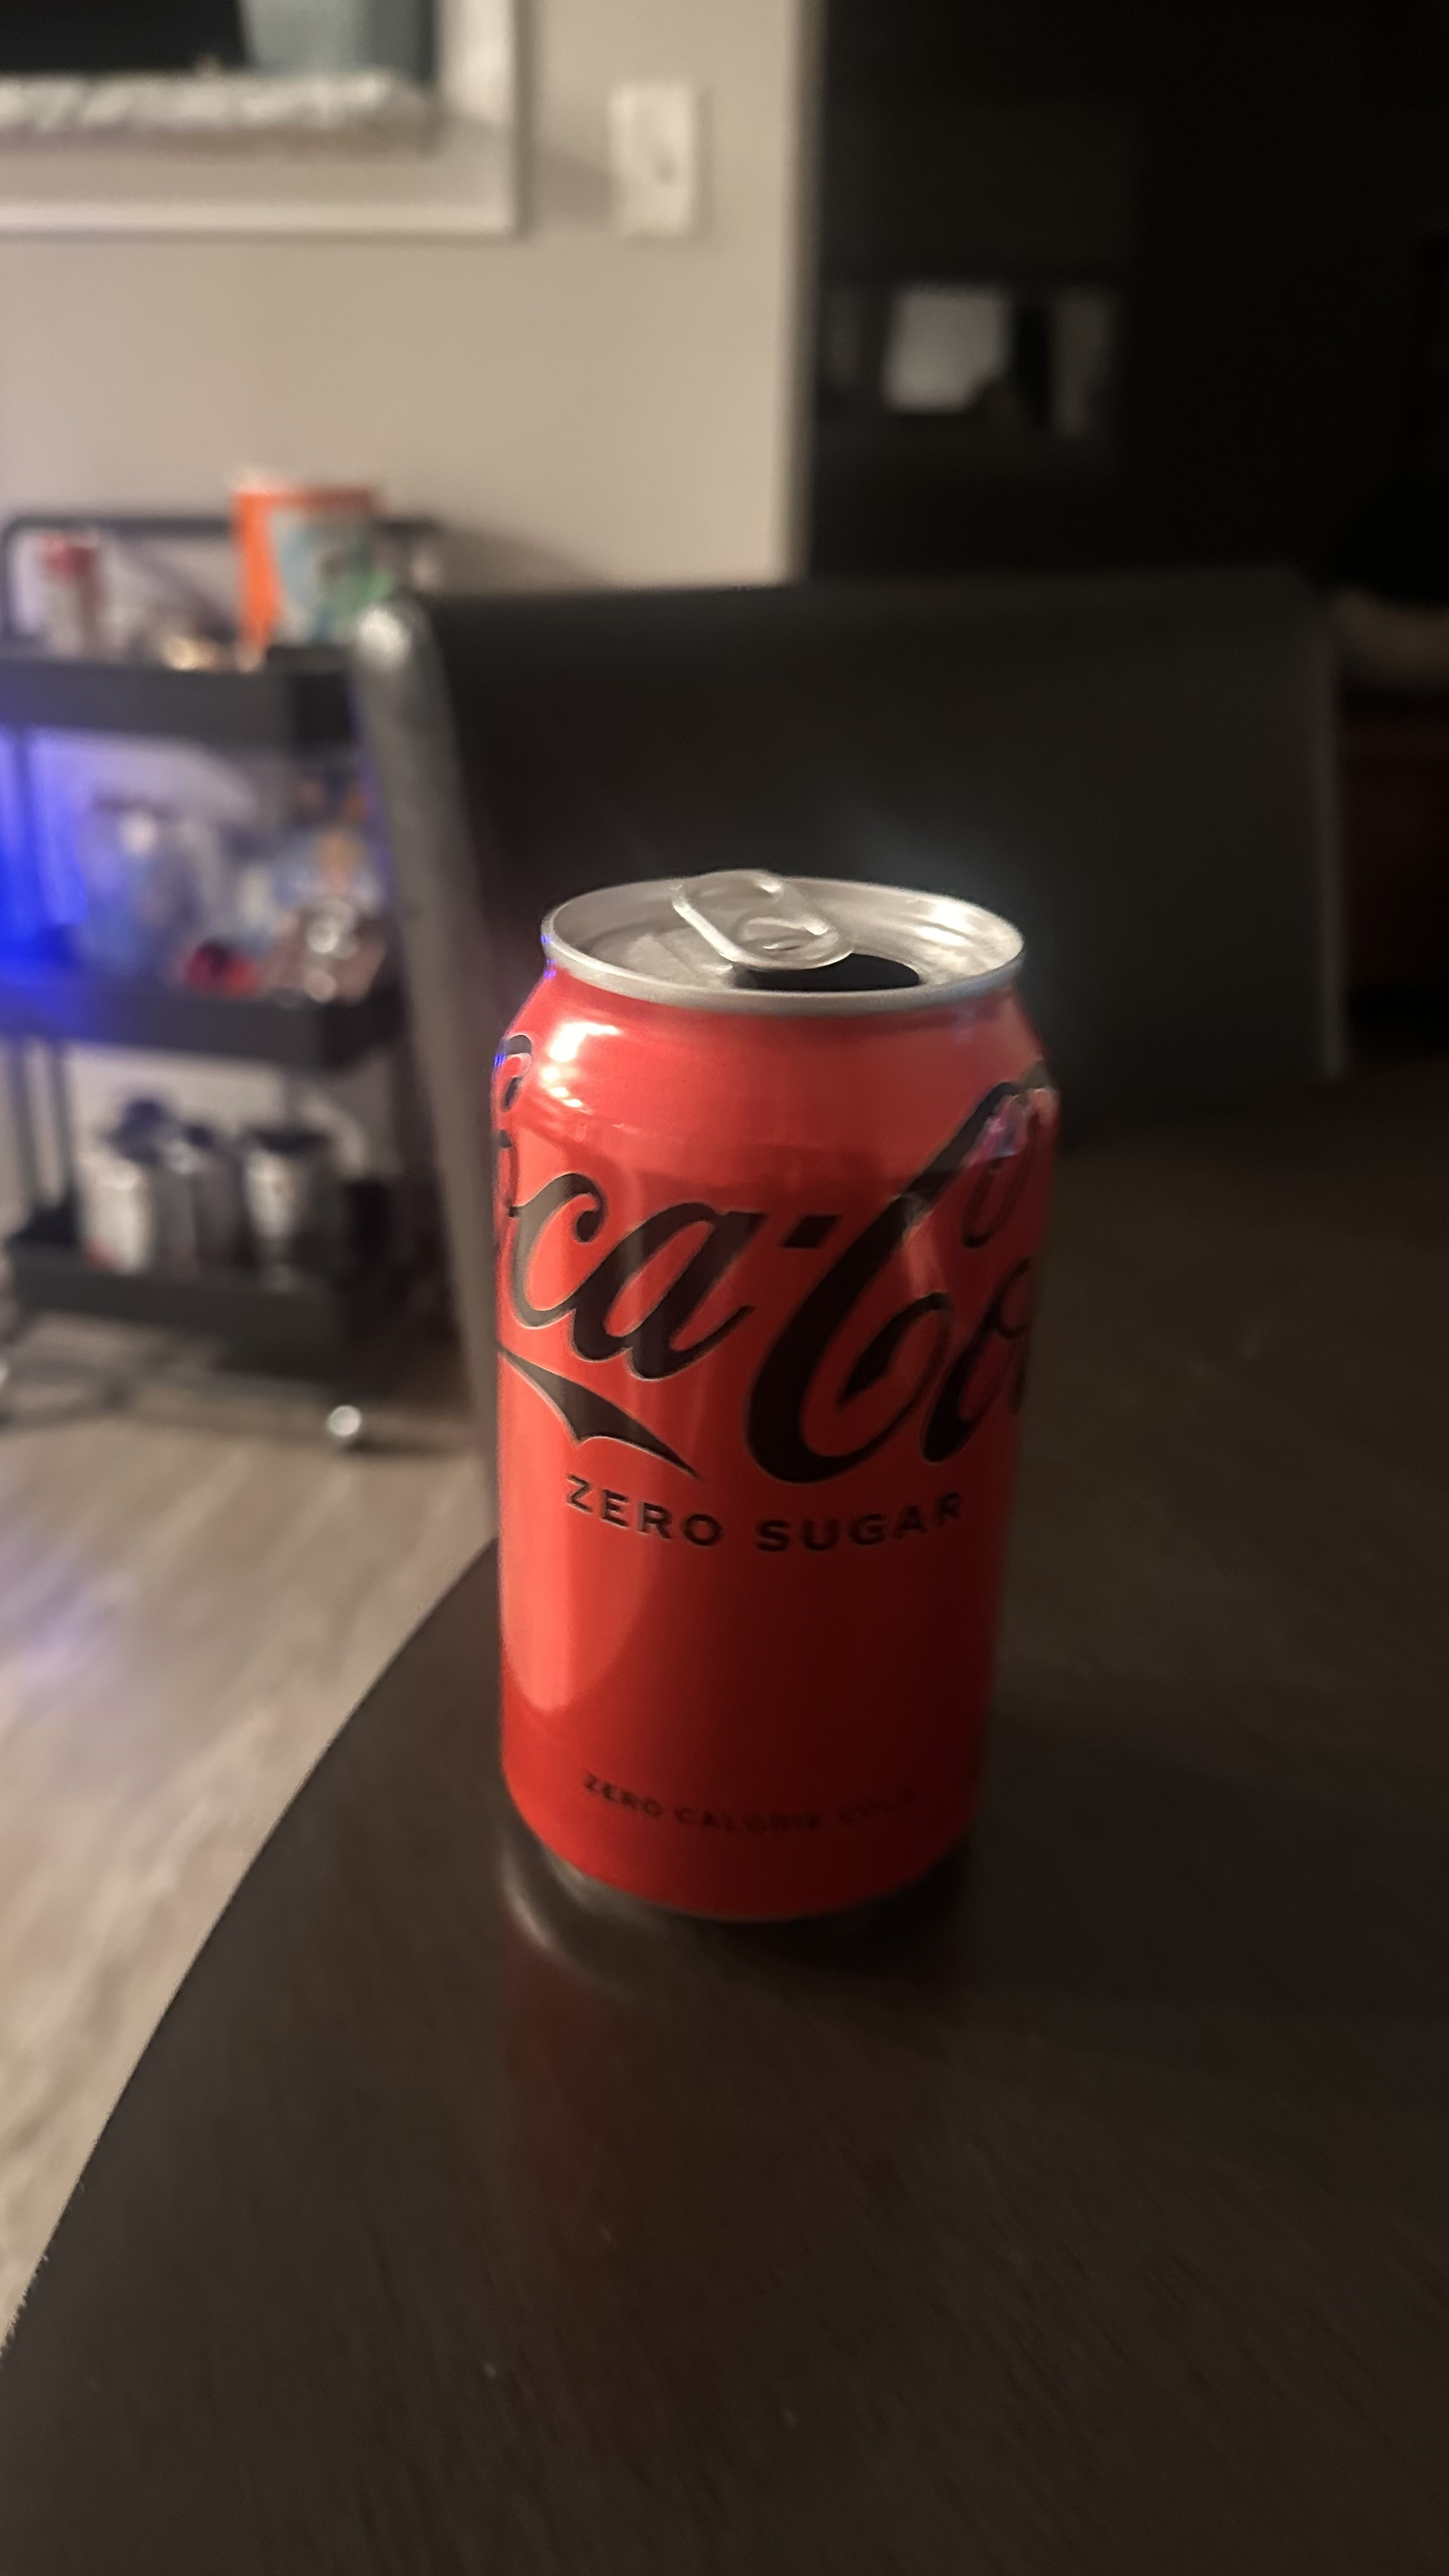Coke Zero: (472, 821, 1016, 1955)
